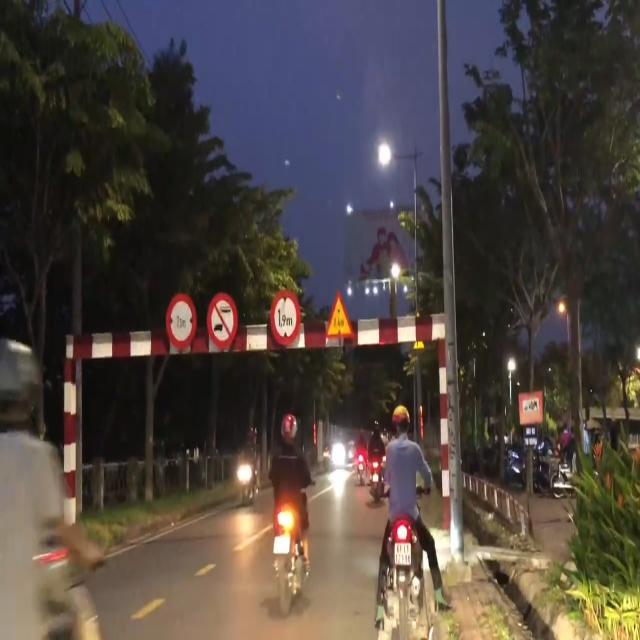Bien bao cam xe oto khach va xe oto tai: (204, 290, 243, 348)
Bien bao chieu cao tinh khong thuc te: (322, 289, 360, 347)
Bien bao han che chieu cao: (267, 287, 304, 346)
